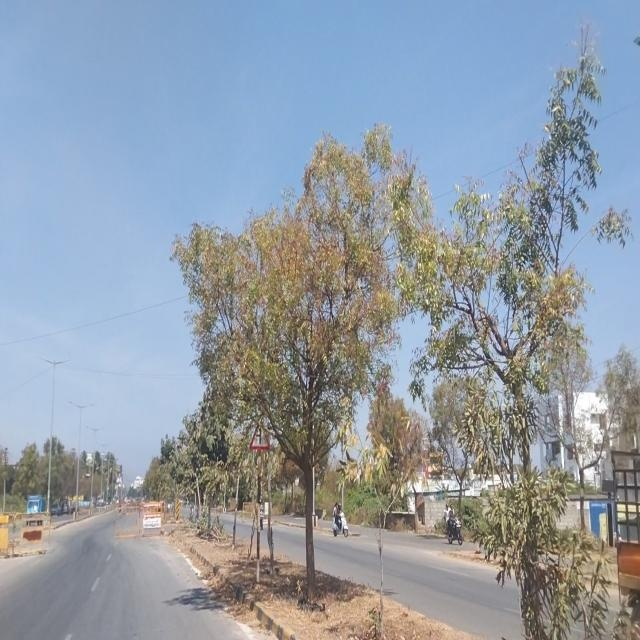bien_nguy_hiem: (250, 416, 270, 452)
